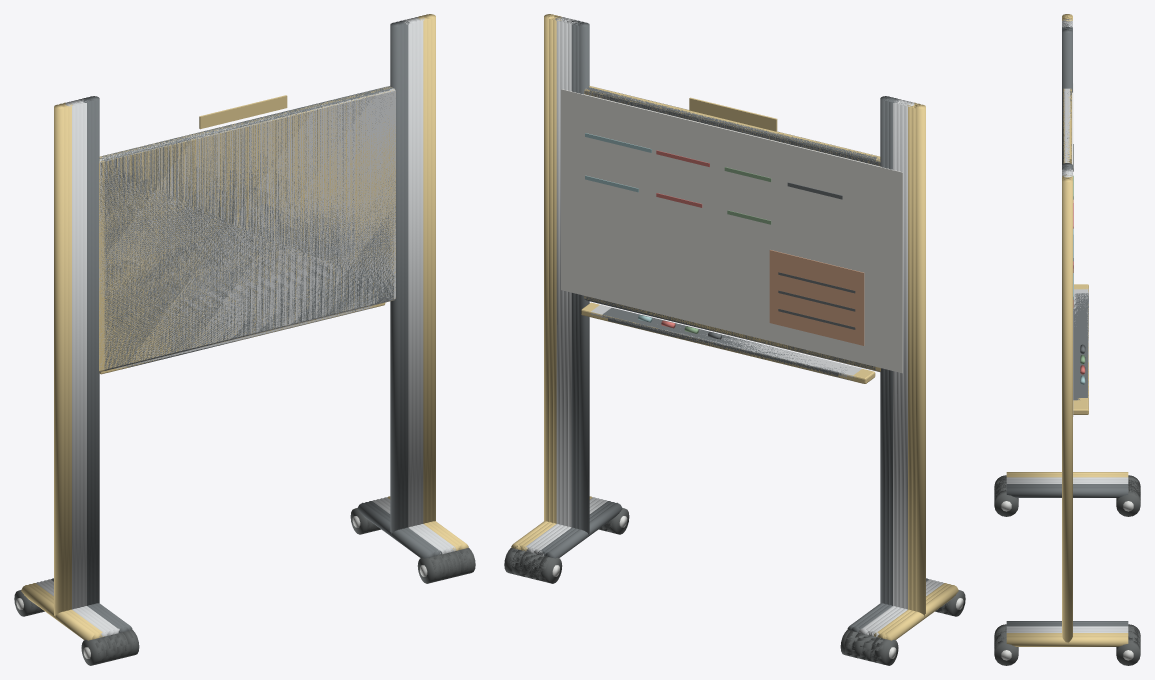
Rendered from Gear15.fbx.
The picture shows the model from 3 angles, left to right: view 1: azimuth 30°, elevation 25°; view 2: azimuth 150°, elevation 25°; view 3: azimuth 270°, elevation 25°; orthographic projection. The views are drawn at different scales.
Parts seen in each view (by area): view 1: Gear15_V1_Charcoal, Gear15_V7_BrushedSteel, Gear15_V4_BrushedSteel, Gear15_V10_Brass, Gear15_V2_Charcoal, Gear15_V9_Brass, Gear15_V6_BrushedSteel, Gear15_V3_Charcoal, Gear15_V5_BrushedSteel, Gear15_V8_Brass, Gear15_V1_Tyre, Gear15_V10_Tyre; view 2: Gear15_V10_Paper, Gear15_V2_Paper, Gear15_V1_Paper, Gear15_V5_Paper, Gear15_V10_Brass, Gear15_V1_Charcoal, Gear15_V3_Charcoal, Gear15_V4_Paper, Gear15_V9_Brass, Gear15_V7_BrushedSteel, Gear15_V8_Brass, Gear15_V2_Charcoal (+14 smaller); view 3: Gear15_V10_Brass, Gear15_V1_Charcoal, Gear15_V5_BrushedSteel, Gear15_V1_Tyre, Gear15_V10_Tyre, Gear15_V6_BrushedSteel, Gear15_V4_BrushedSteel, Gear15_V3_Charcoal, Gear15_V8_Brass, Gear15_V9_Brass, Gear15_V2_Charcoal, Gear15_V7_BrushedSteel.
Boxes of the visible parts, box(x1,y1,x2,y2) form: Gear15_V1_Charcoal: box(88, 22, 434, 630); Gear15_V7_BrushedSteel: box(36, 17, 456, 637); Gear15_V4_BrushedSteel: box(47, 19, 445, 634); Gear15_V10_Brass: box(21, 14, 468, 640); Gear15_V2_Charcoal: box(84, 21, 435, 632); Gear15_V9_Brass: box(28, 15, 461, 639); Gear15_V6_BrushedSteel: box(40, 17, 453, 632); Gear15_V3_Charcoal: box(51, 20, 442, 629); Gear15_V5_BrushedSteel: box(43, 18, 449, 635); Gear15_V8_Brass: box(32, 16, 460, 636); Gear15_V1_Tyre: box(122, 508, 441, 655); Gear15_V10_Tyre: box(14, 548, 475, 665); Gear15_V10_Paper: box(561, 89, 902, 373); Gear15_V2_Paper: box(588, 120, 874, 365); Gear15_V1_Paper: box(593, 101, 871, 364); Gear15_V5_Paper: box(578, 93, 885, 367); Gear15_V10_Brass: box(511, 14, 958, 640); Gear15_V1_Charcoal: box(545, 22, 891, 631); Gear15_V3_Charcoal: box(538, 20, 928, 629); Gear15_V4_Paper: box(581, 95, 881, 340); Gear15_V9_Brass: box(515, 15, 951, 639); Gear15_V7_BrushedSteel: box(523, 17, 943, 636); Gear15_V8_Brass: box(520, 16, 947, 638); Gear15_V2_Charcoal: box(541, 21, 895, 632); Gear15_V10_Brass: box(1006, 14, 1128, 646); Gear15_V1_Charcoal: box(1006, 29, 1128, 622); Gear15_V5_BrushedSteel: box(1006, 22, 1128, 629); Gear15_V1_Tyre: box(994, 490, 1140, 638); Gear15_V10_Tyre: box(994, 475, 1140, 665); Gear15_V6_BrushedSteel: box(1006, 20, 1128, 631); Gear15_V4_BrushedSteel: box(1006, 24, 1128, 627); Gear15_V3_Charcoal: box(1006, 25, 1128, 626); Gear15_V8_Brass: box(1006, 17, 1128, 634); Gear15_V9_Brass: box(1006, 16, 1128, 636); Gear15_V2_Charcoal: box(1006, 27, 1128, 624); Gear15_V7_BrushedSteel: box(1006, 19, 1128, 632).
Bounding box in the file's own units: 132 × 175 × 48.
